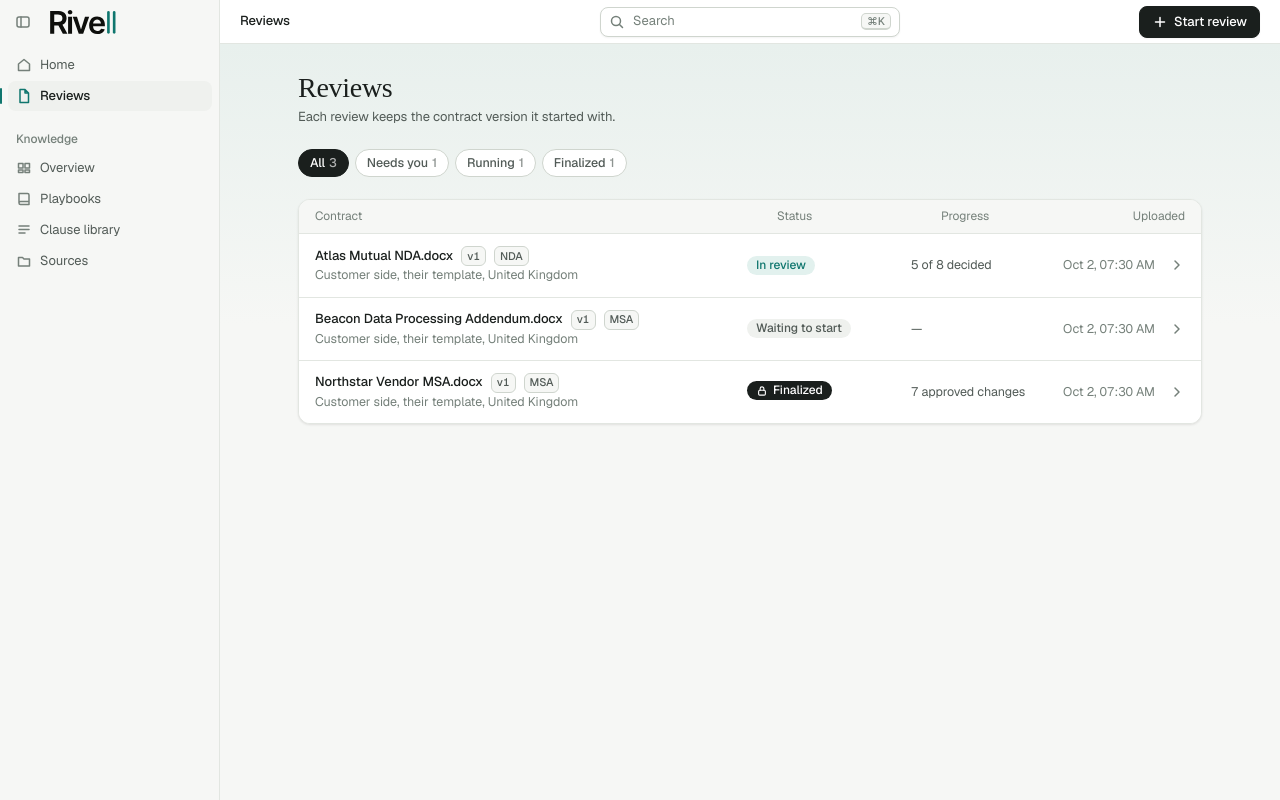
Reviews page › enables the canonical filters and counts each group
The width and height of the screenshot is (1280, 800).
Expected: the button "All3" is shown, 298,149 -> 349,177
Expected: the button "Needs you1" is enabled, 355,149 -> 449,177
Click the button "Running1" at (495, 163), box 455,149 -> 536,177
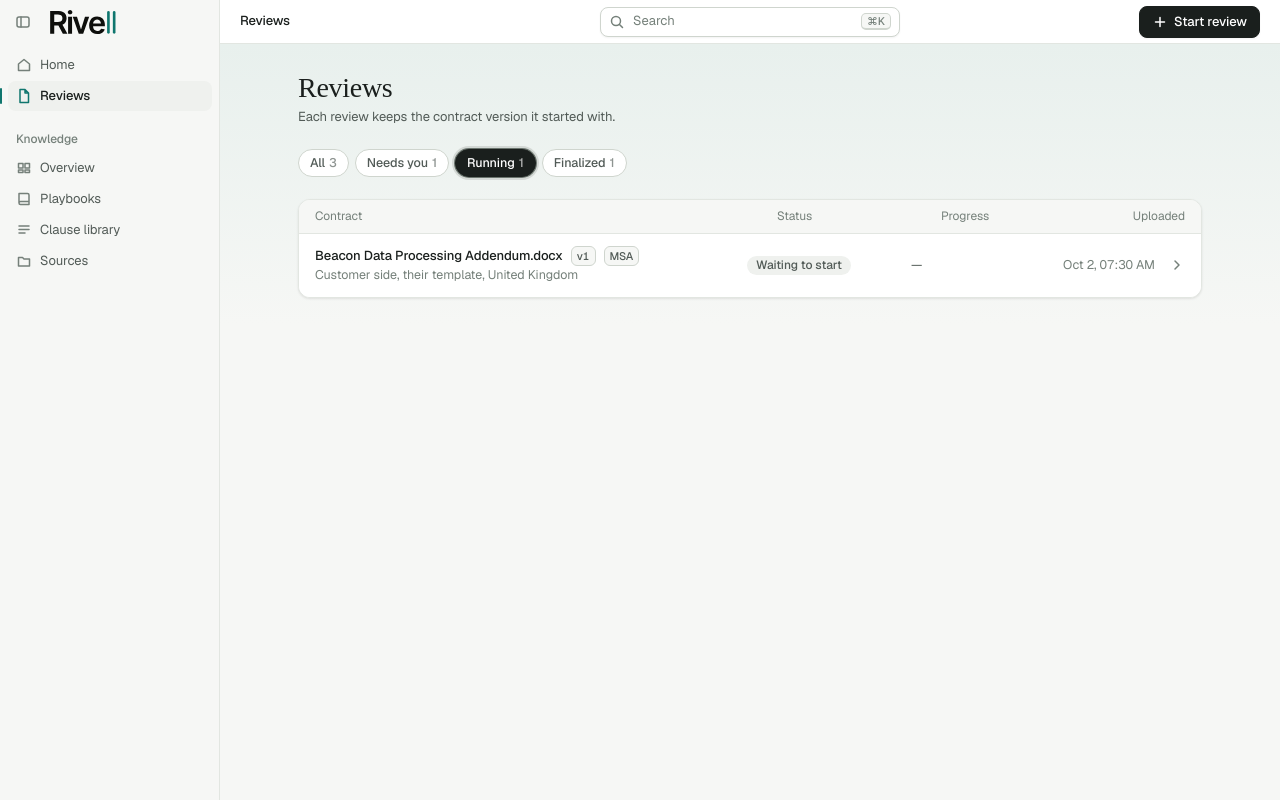
Result: the number of links ".docx" is 1 at 299,234 -> 1201,296
Click the button "Finalized1" at (584, 163), box 542,149 -> 627,177
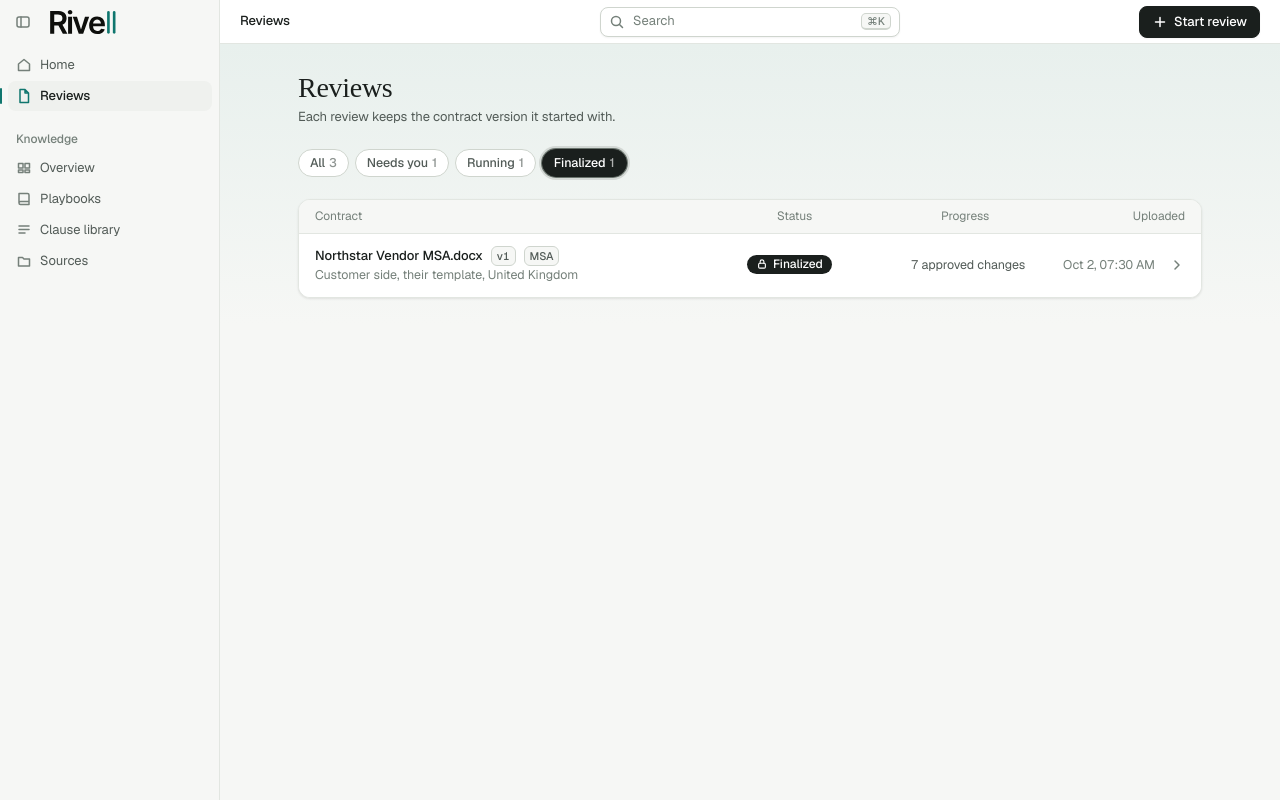
Result: the number of links ".docx" is 1 at 299,234 -> 1201,296
Click the button "Needs you1" at (402, 163), box 355,149 -> 449,177
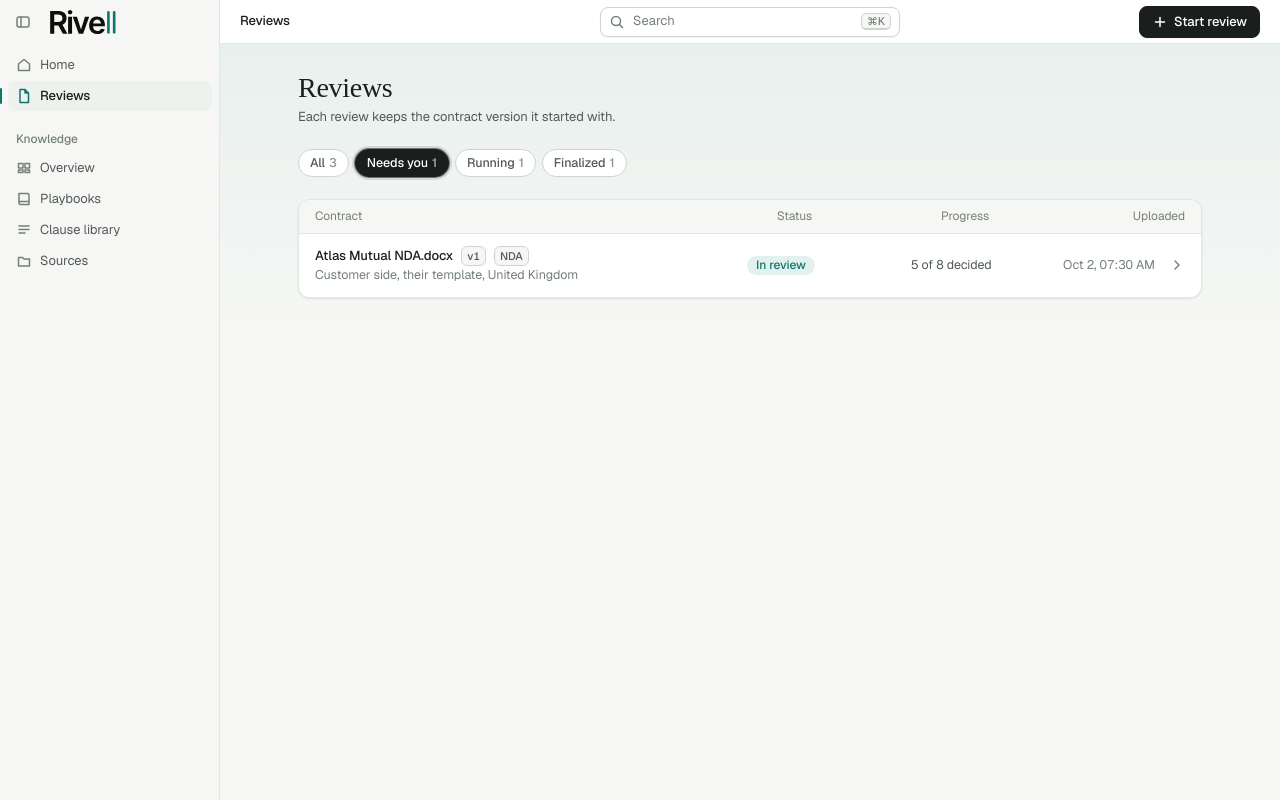
Result: the link "Atlas" is shown at 299,234 -> 1201,296
